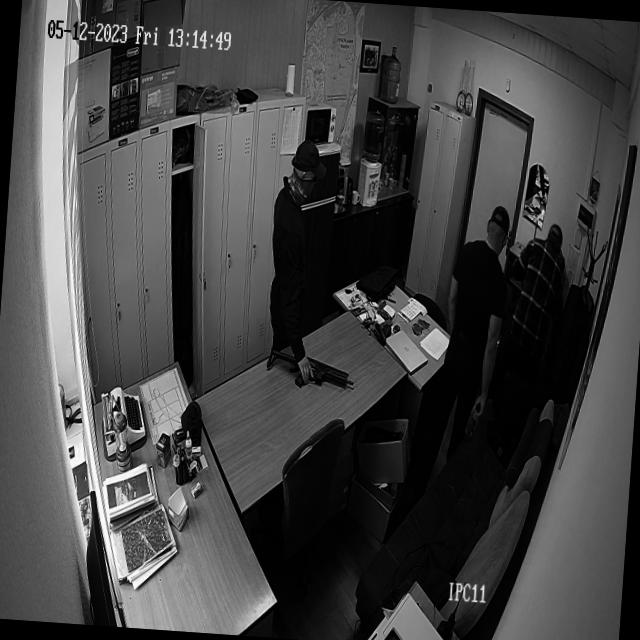gun: (264, 342, 356, 397), (464, 396, 481, 448)
person: (520, 218, 574, 376)
person with a gun: (256, 130, 372, 404), (432, 195, 514, 480)
